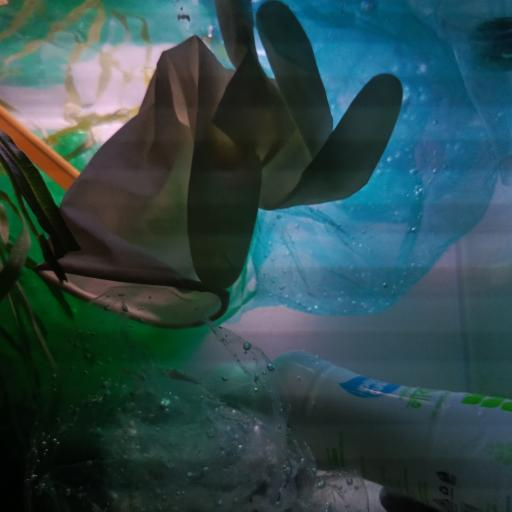bottle_cap: (469, 18, 512, 70)
glove: (32, 0, 404, 330)
plastic_bag: (187, 0, 512, 320), (0, 283, 371, 511), (0, 122, 263, 369)
plastic_bottle: (217, 348, 512, 512)
plastic_cup: (438, 0, 512, 184)
plastic_straw: (0, 107, 76, 186)
